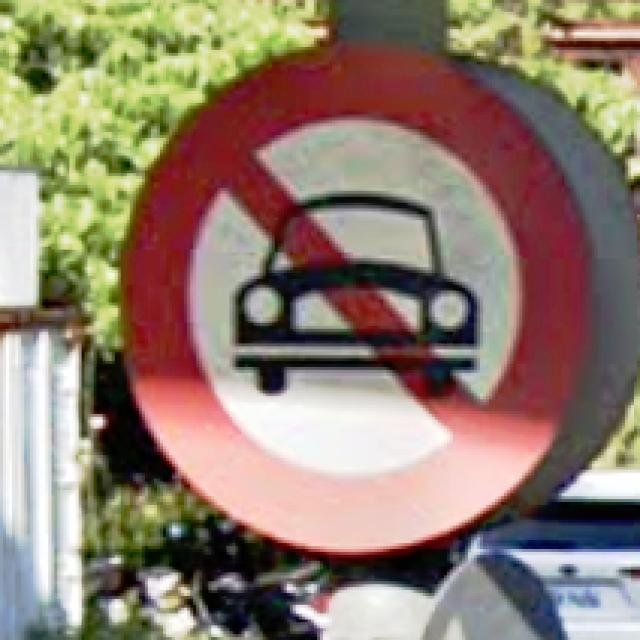nocar: (121, 47, 592, 561)
